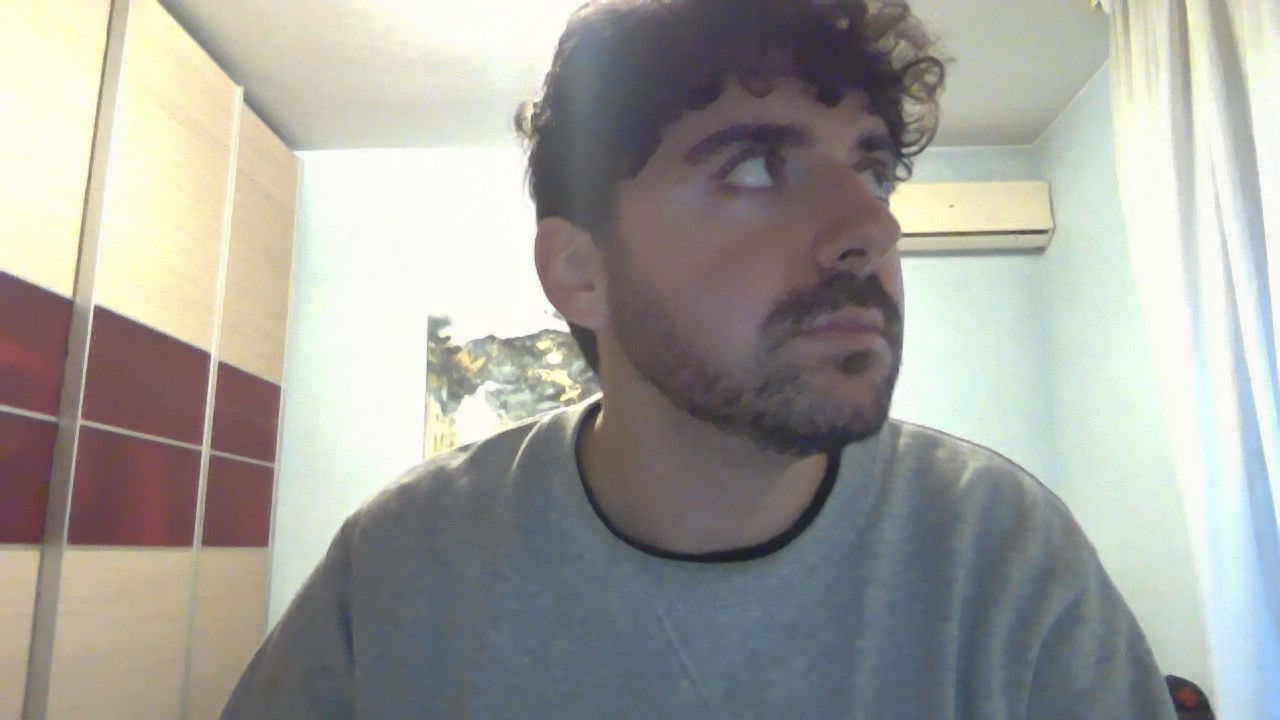NoGlasses: (565, 109, 946, 231)
